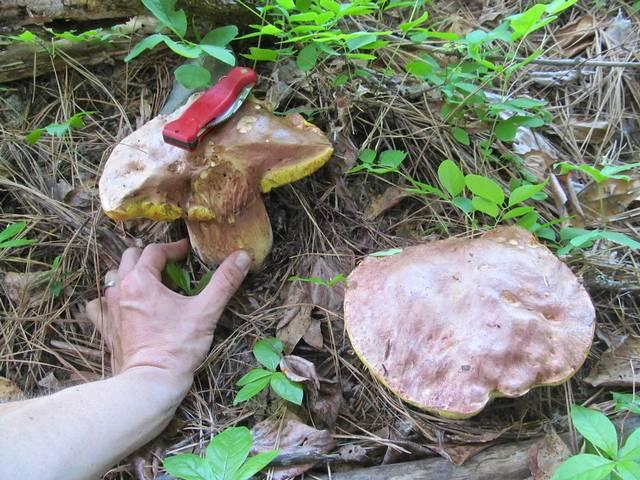edible_mushroom: (342, 223, 596, 420), (97, 65, 334, 275)
